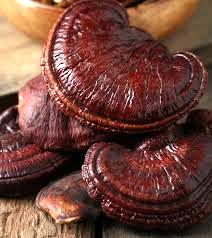Ganoderma - Fruit Body: (38, 0, 212, 136), (81, 137, 212, 232), (0, 130, 77, 191)
